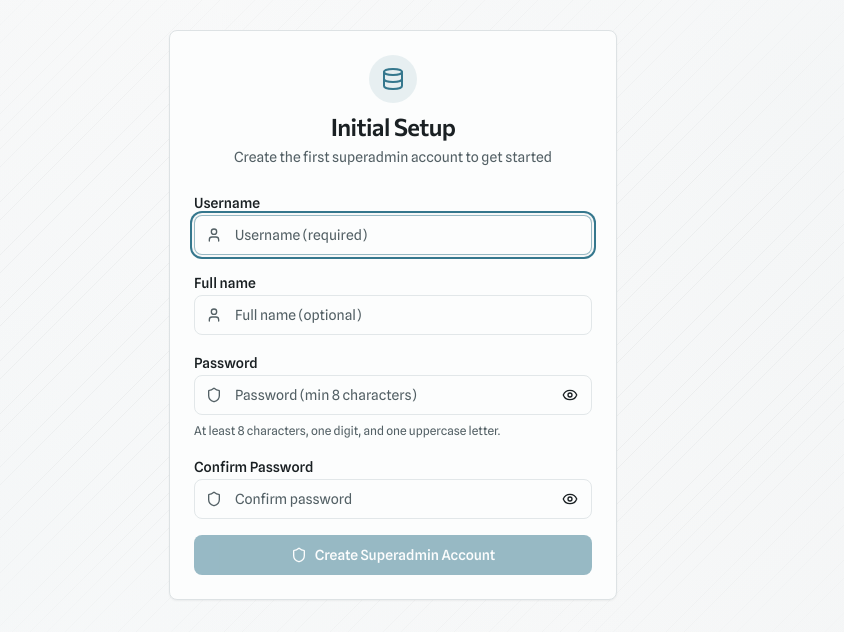
Test: SetupPage › validates password minimum length
Note: Fill username but with short password
Type "testuser" into the field with placeholder "Username (required)" at point(393, 235), box [194,215,592,255]
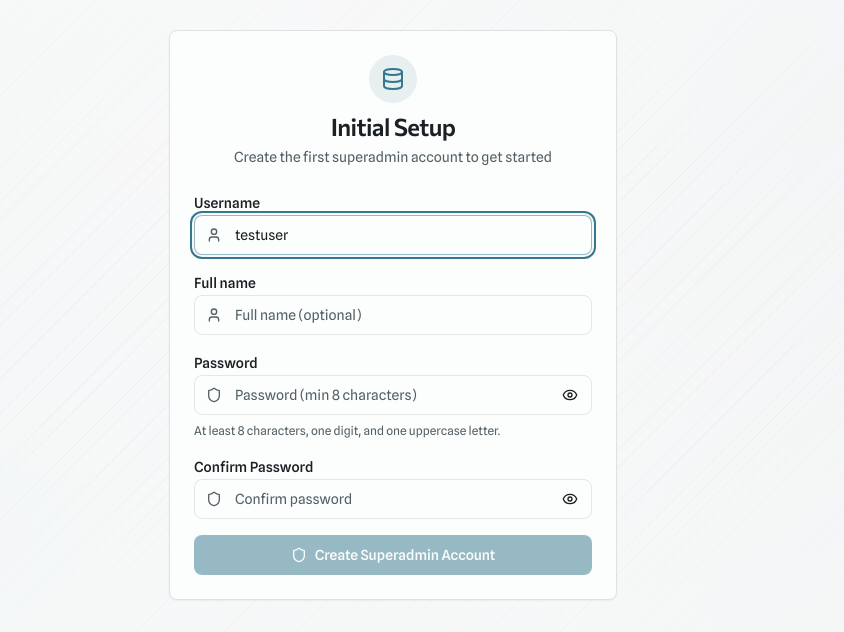
Type "short" into the password field with placeholder "Password (min 8 characters)" at point(393, 395), box [194,375,592,415]
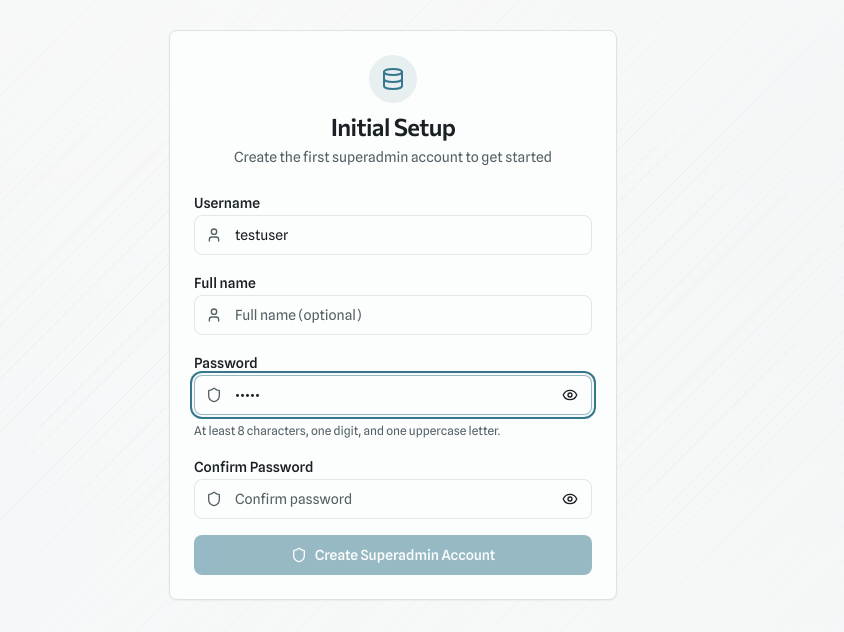
Type "short" into the password field with placeholder "Confirm Password" at point(393, 499), box [194,479,592,519]
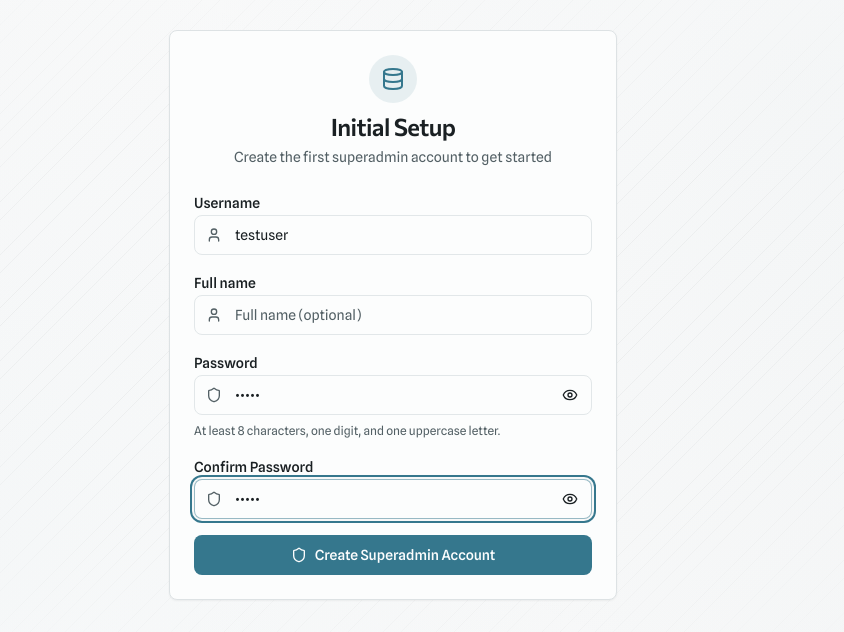
Click the button "Create Superadmin Account" at point(393, 555), box [194,535,592,575]
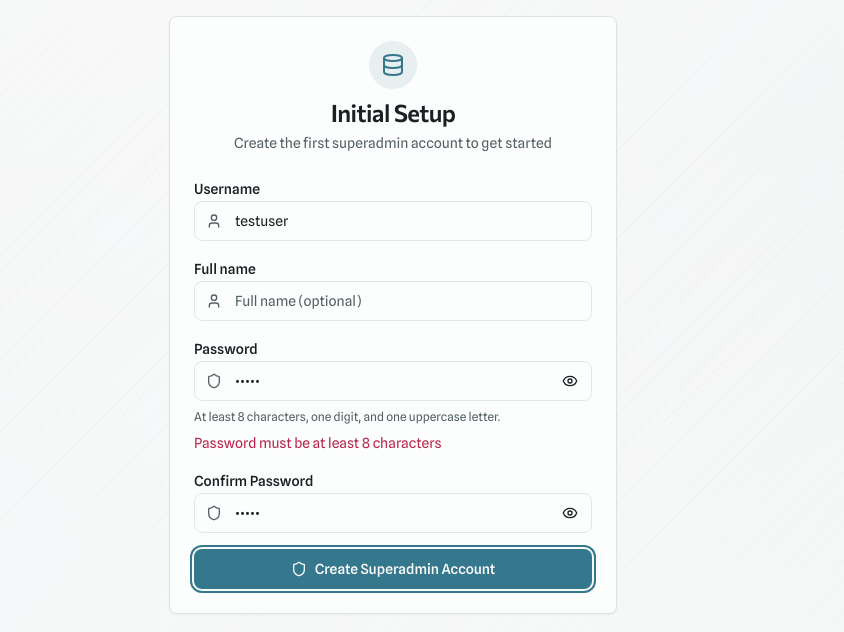
Check: the text "Password must be at least 8 characters" is shown, box [194,435,442,451]
